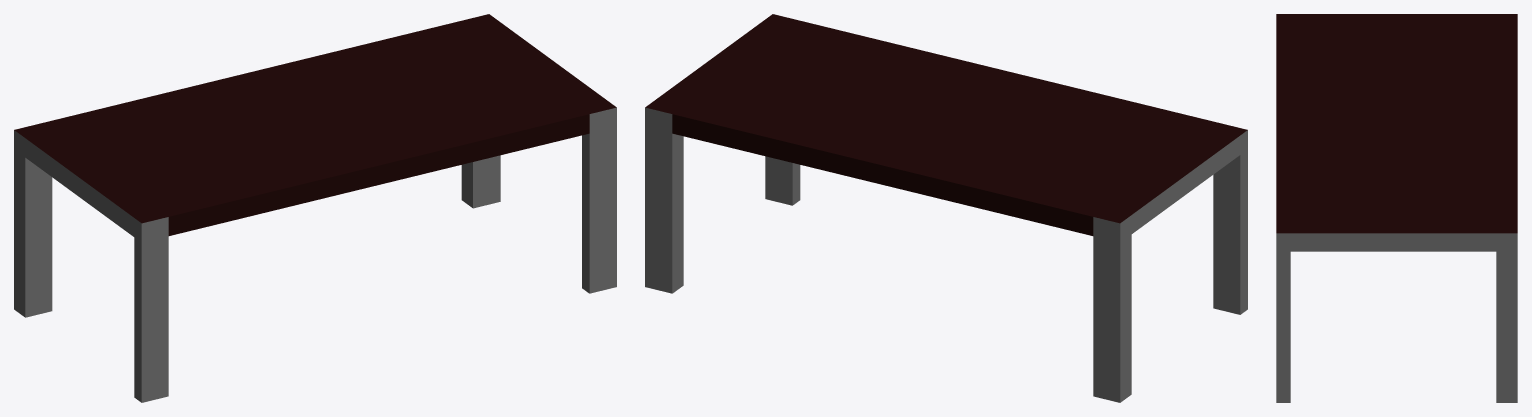
File: table.fbx
The picture shows the model from 3 angles, left to right: view 1: azimuth 30°, elevation 25°; view 2: azimuth 150°, elevation 25°; view 3: azimuth 270°, elevation 25°; orthographic projection. The views are drawn at different scales.
Visible parts, largest first — view 1: table; view 2: table; view 3: table.
Part boxes in pixels (x1,y1,x2,y2): table: (14,14,616,402); table: (645,14,1247,402); table: (1276,14,1517,402).
Size of the model in its own units: 105 by 81.02 by 224.
